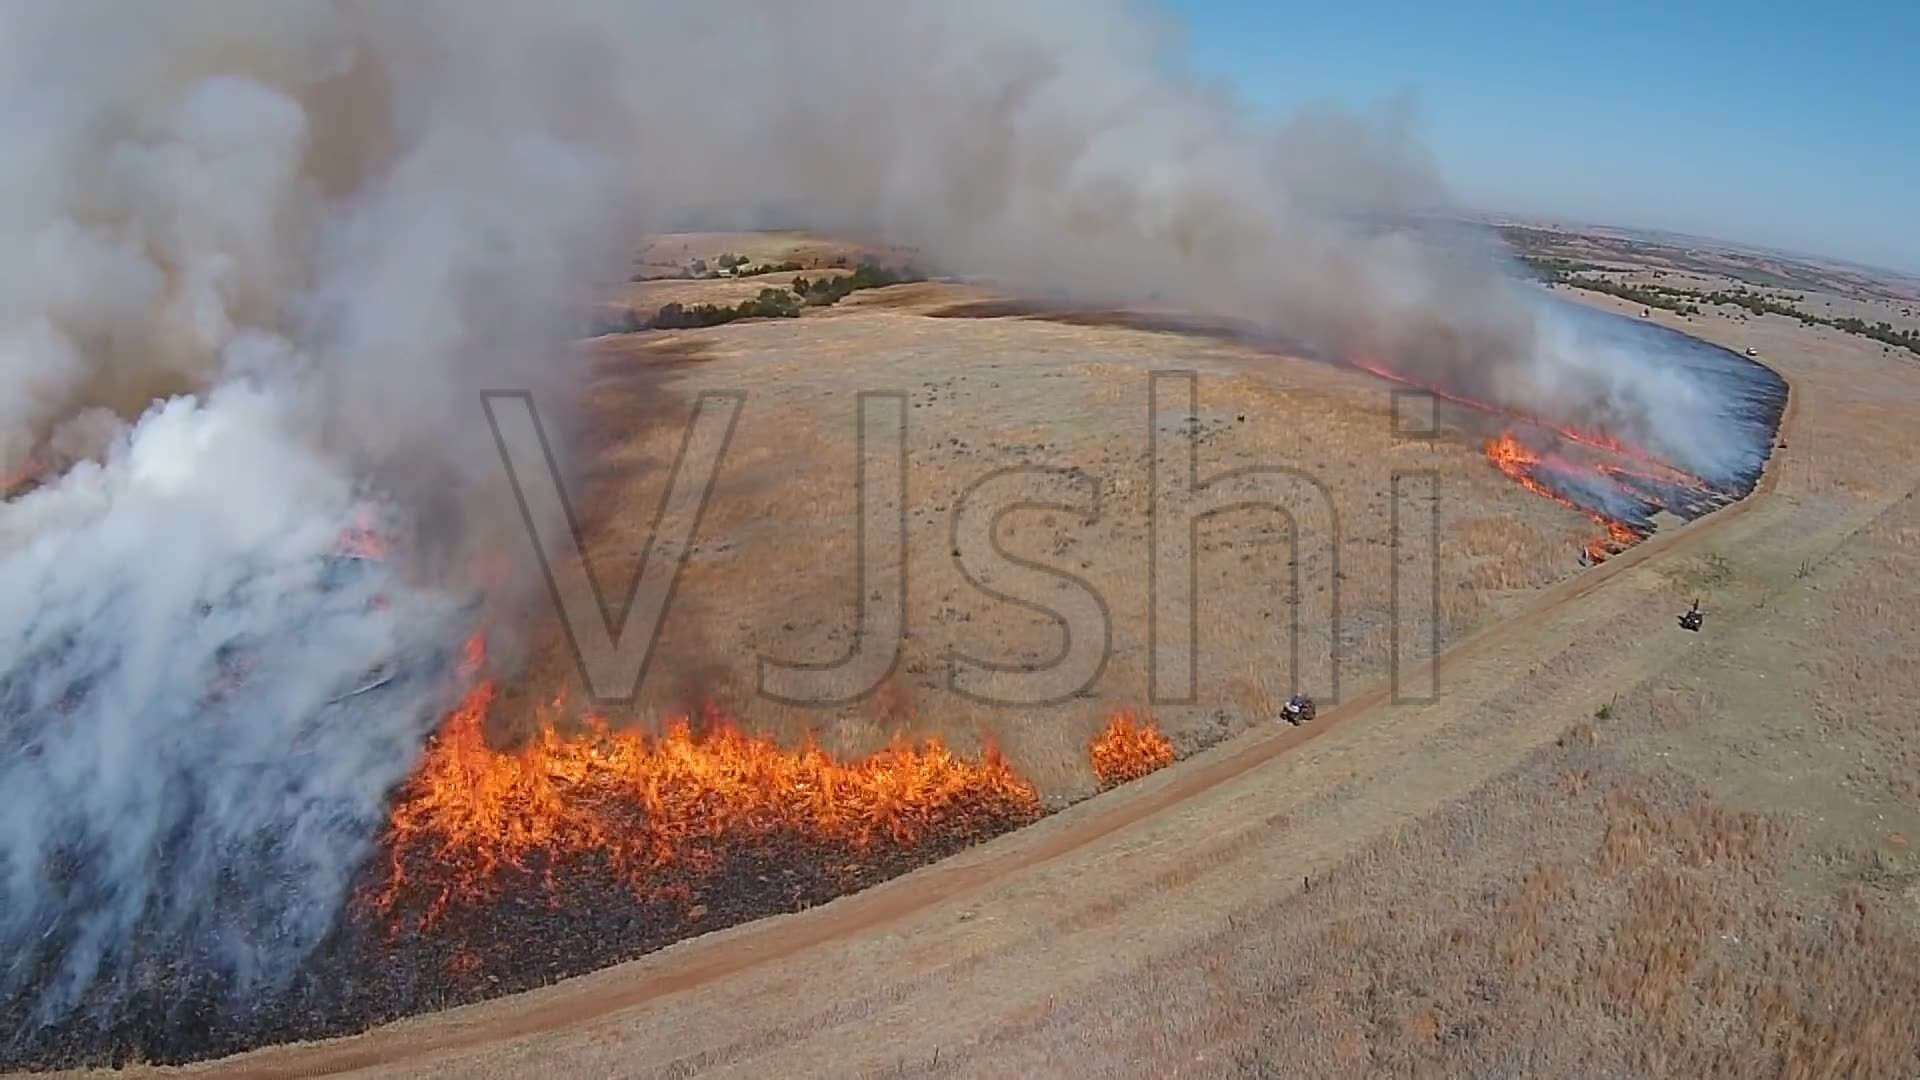fire: (389, 653, 1045, 905), (1359, 349, 1746, 570), (1084, 700, 1187, 800)
